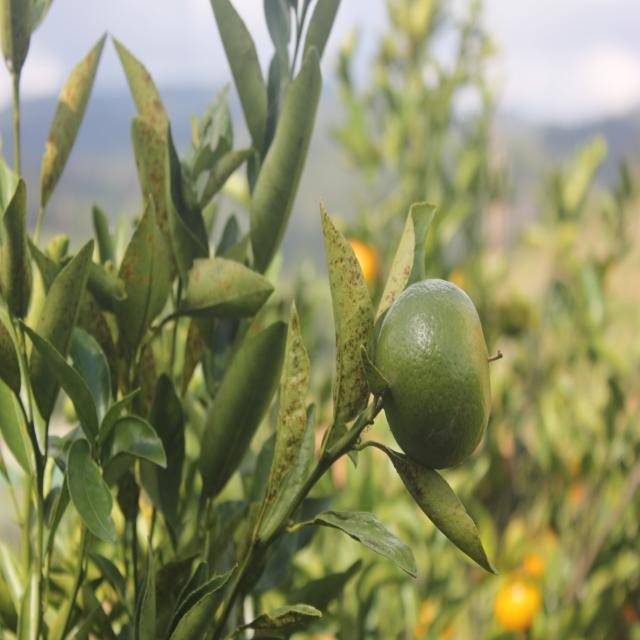melanose: (116, 43, 199, 245), (324, 200, 378, 480), (260, 306, 318, 527), (37, 32, 110, 200), (383, 190, 434, 311)
